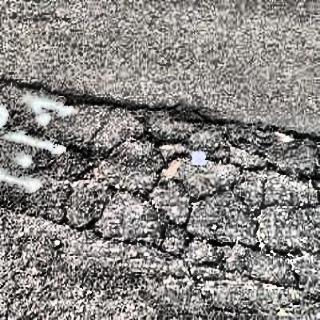alligator-crack: (4, 56, 320, 287)
